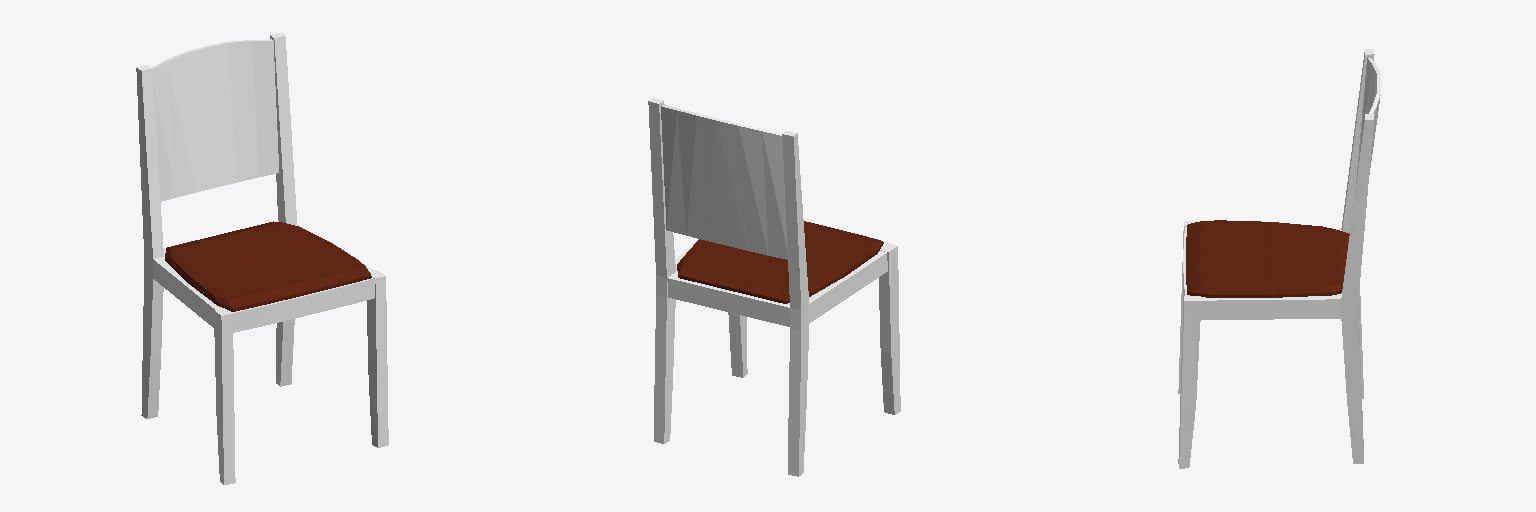
The model's file is sedia_cucina.obj.
The picture shows the model from 3 angles: view 1: azimuth 30°, elevation 25°; view 2: azimuth 150°, elevation 25°; view 3: azimuth 270°, elevation 25°; orthographic projection.
Parts seen in each view (by area): view 1: fusta_taula_tipic.001_fusta_taula_tipic_fusta_taula_tipic.001_ti, coixi_cadira_coixi_cadira_coixi_cadira.001; view 2: fusta_taula_tipic.001_fusta_taula_tipic_fusta_taula_tipic.001_ti, coixi_cadira_coixi_cadira_coixi_cadira.001; view 3: fusta_taula_tipic.001_fusta_taula_tipic_fusta_taula_tipic.001_ti, coixi_cadira_coixi_cadira_coixi_cadira.001.
Boxes of the visible parts, x1,y1,x2,y2 form: fusta_taula_tipic.001_fusta_taula_tipic_fusta_taula_tipic.001_ti: [136, 32, 388, 484]; coixi_cadira_coixi_cadira_coixi_cadira.001: [165, 221, 371, 311]; fusta_taula_tipic.001_fusta_taula_tipic_fusta_taula_tipic.001_ti: [648, 98, 900, 476]; coixi_cadira_coixi_cadira_coixi_cadira.001: [677, 221, 883, 303]; fusta_taula_tipic.001_fusta_taula_tipic_fusta_taula_tipic.001_ti: [1178, 49, 1381, 468]; coixi_cadira_coixi_cadira_coixi_cadira.001: [1186, 220, 1349, 297].
Size of the model in its own units: 44.12 by 88.37 by 47.17.